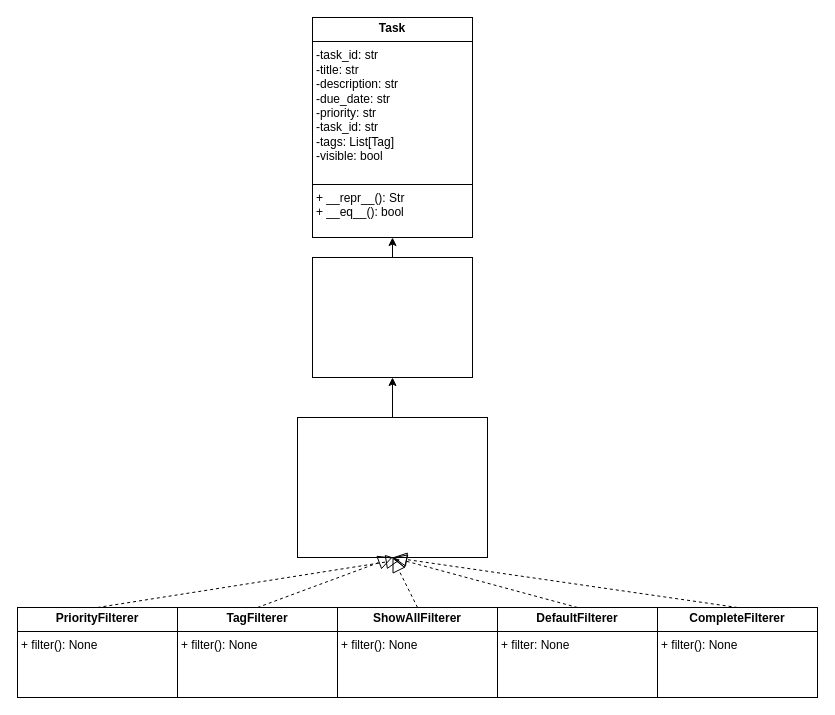
This 835x715 diagram has some shape labels left out. Each missing label, with the centre of its shape:
"<<Interface>> Filterer + filter(dict{Task}): None" belongs at (392,487).
"TaskManager - _instance: + add_task(Task): None + delete_task(task_id:Str): None" belongs at (392,317).
